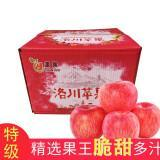apple: (97, 80, 137, 112), (69, 104, 105, 139), (103, 109, 138, 139), (131, 102, 159, 138)
